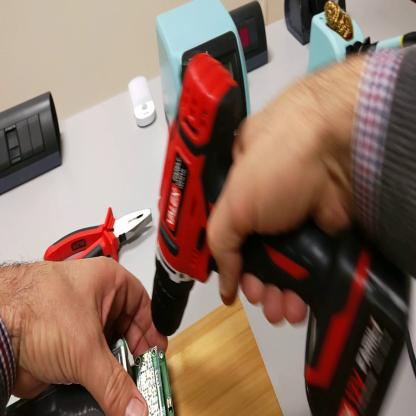electric screwdriver: (149, 55, 373, 386)
hand: (207, 70, 358, 319)
low voltage board: (2, 259, 168, 416)
pliers: (46, 201, 152, 265)
socket: (230, 1, 270, 76), (284, 2, 338, 48)
welder base: (311, 1, 372, 74)
welder probe tip: (355, 29, 416, 60)
welder station: (156, 4, 254, 135)
working area: (164, 297, 284, 416)
